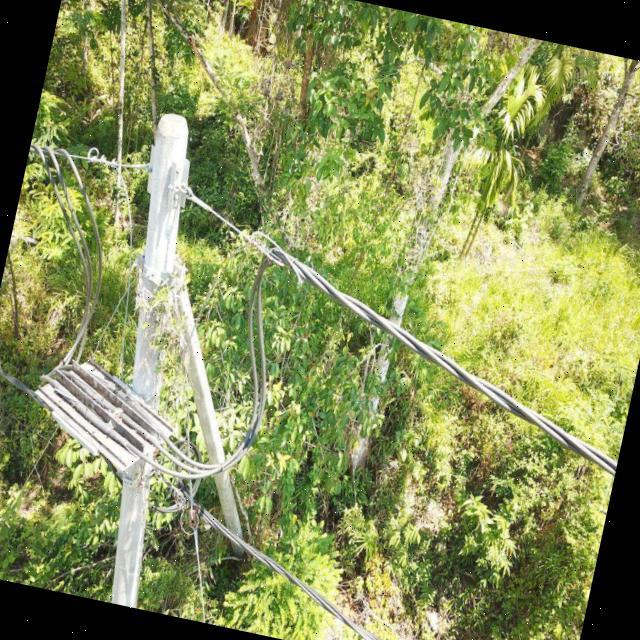critical vegetation: (94, 242, 214, 424)
